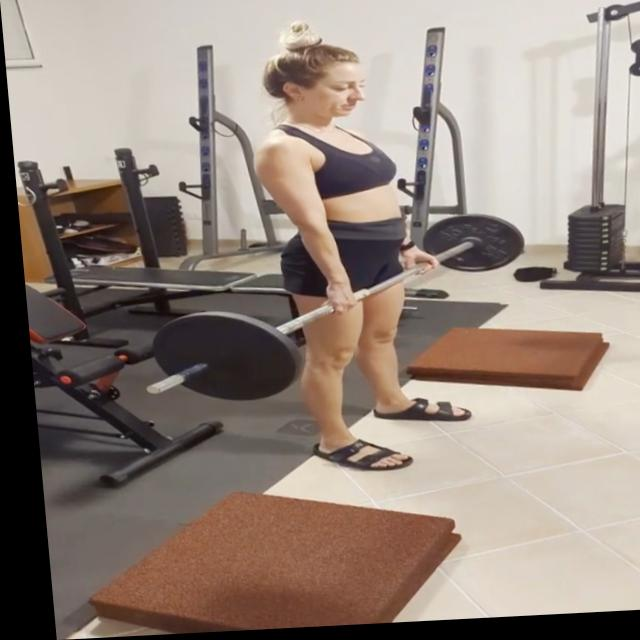barbell: (126, 306, 301, 411)
